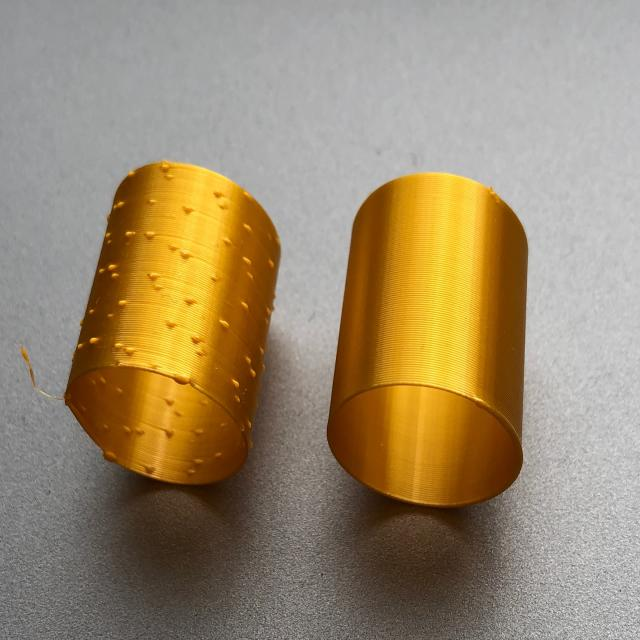blobs: (182, 279, 274, 396), (96, 397, 219, 468), (71, 270, 150, 366), (124, 184, 223, 235)
